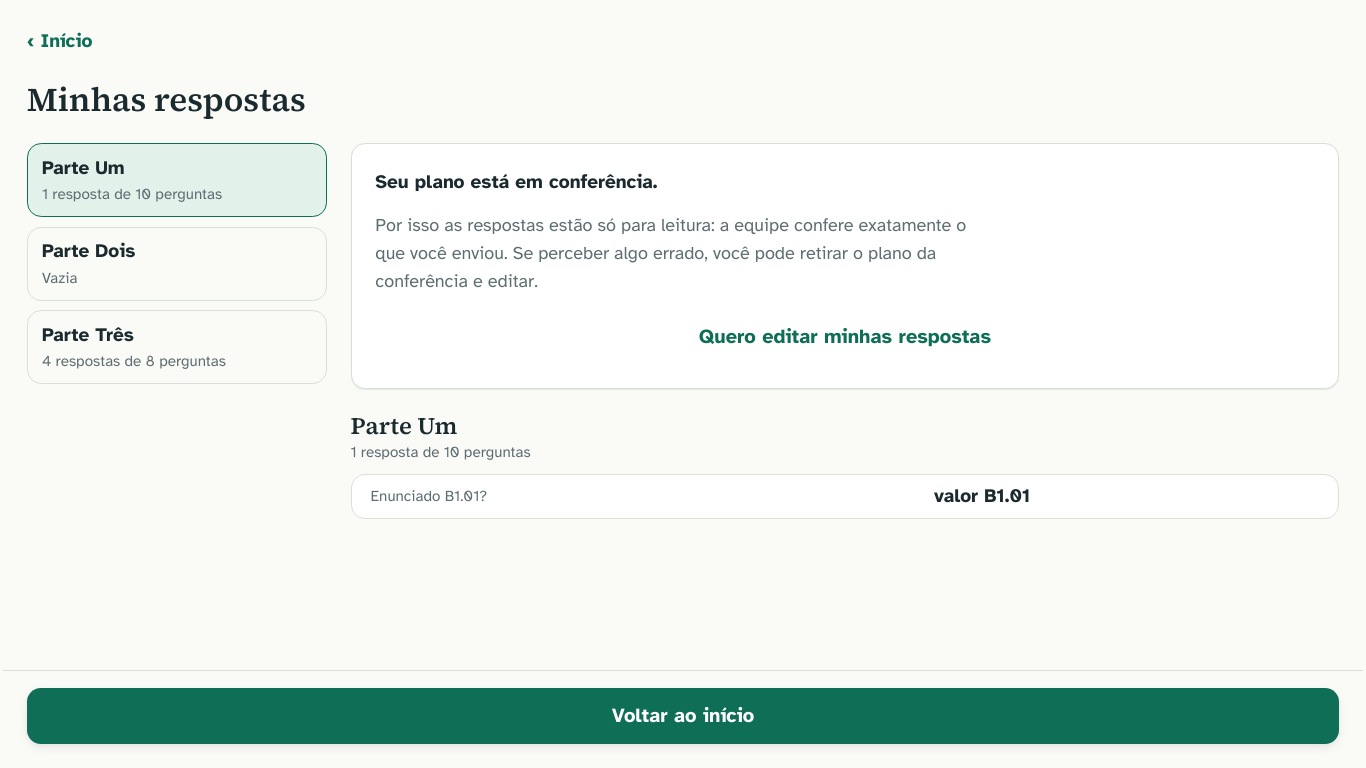
Test case: TelaRespostas — só leitura em conferência (T-337, RF-114/RF-115) › o servidor recusa (409): a mensagem dele aparece e o plano segue em conferência
Click the button "Quero editar minhas respostas" at (845, 337), box [375,310,1315,364]
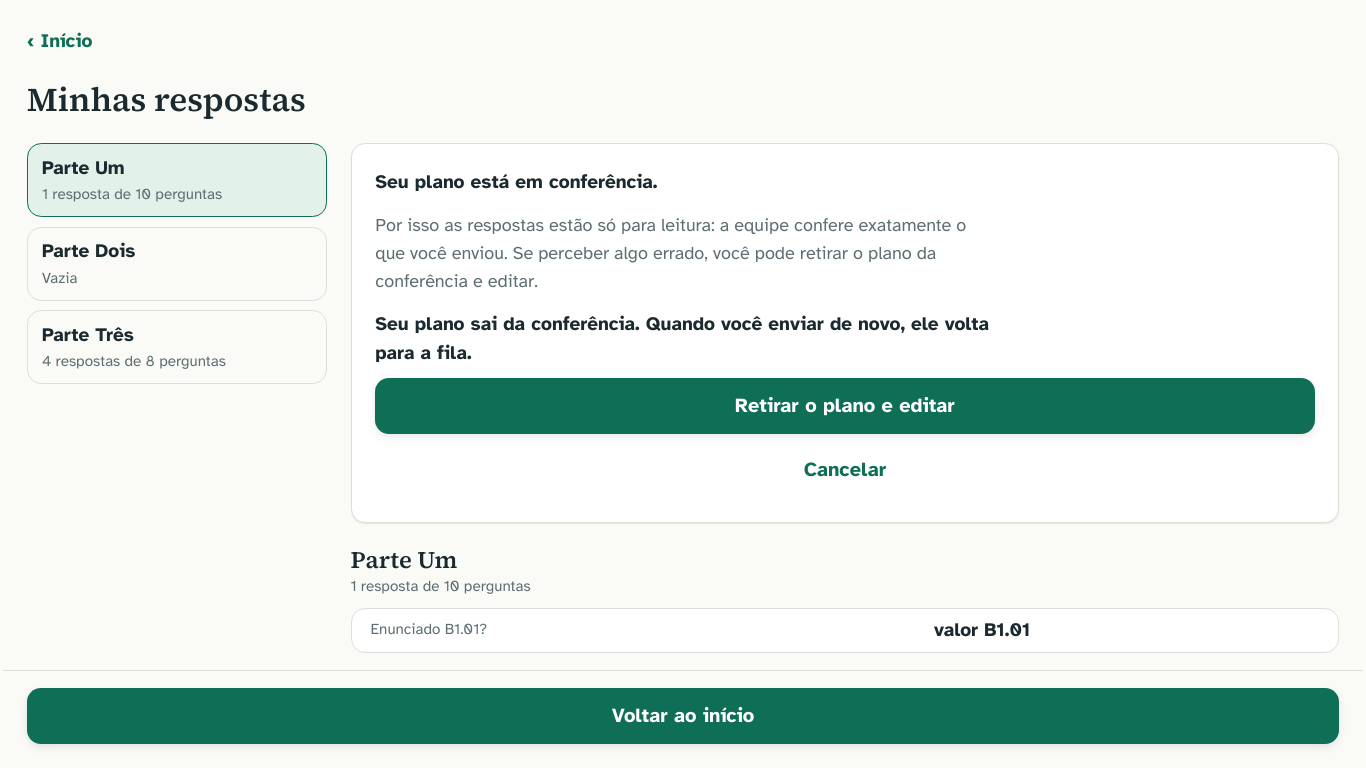
Click the button "Retirar o plano e editar" at (845, 406), box [375,378,1315,434]
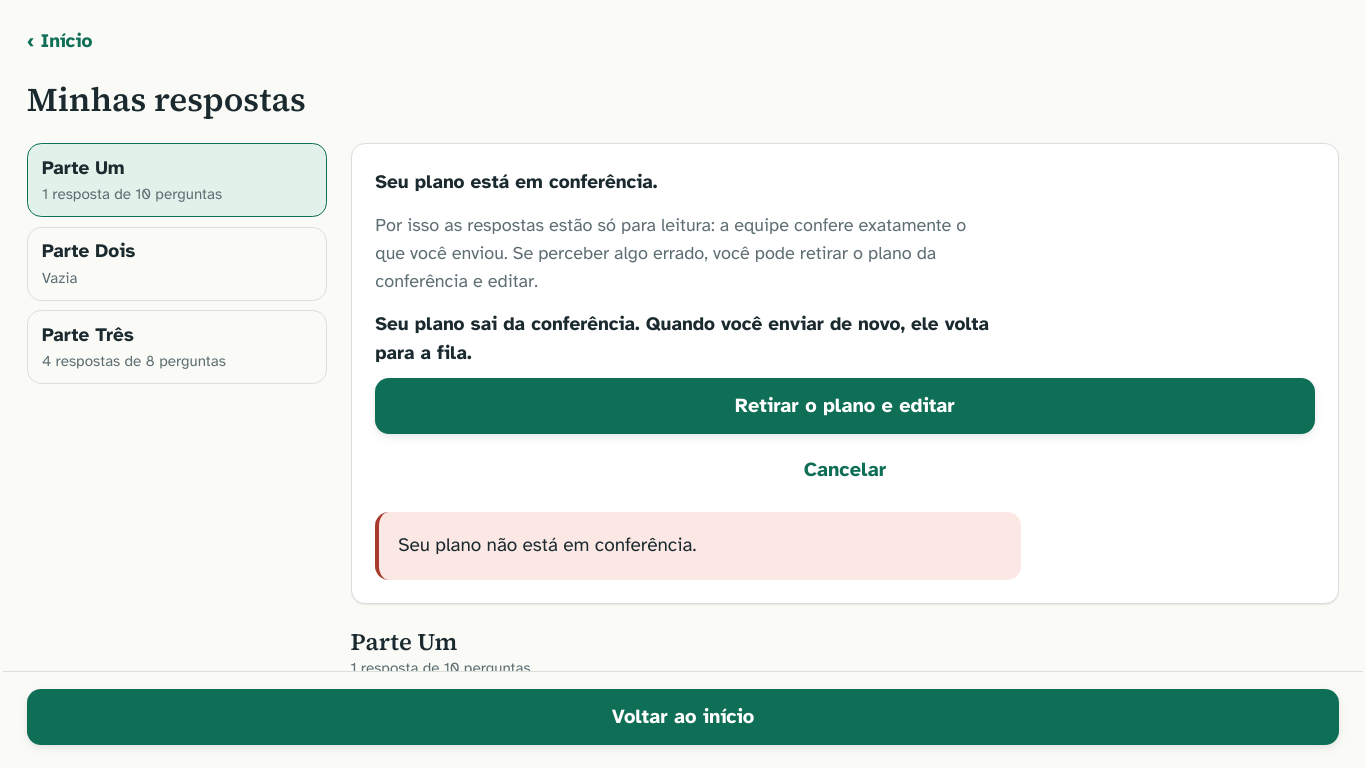
Check: the message reads "Seu plano não está em conferência.", box [398,533,696,557]
